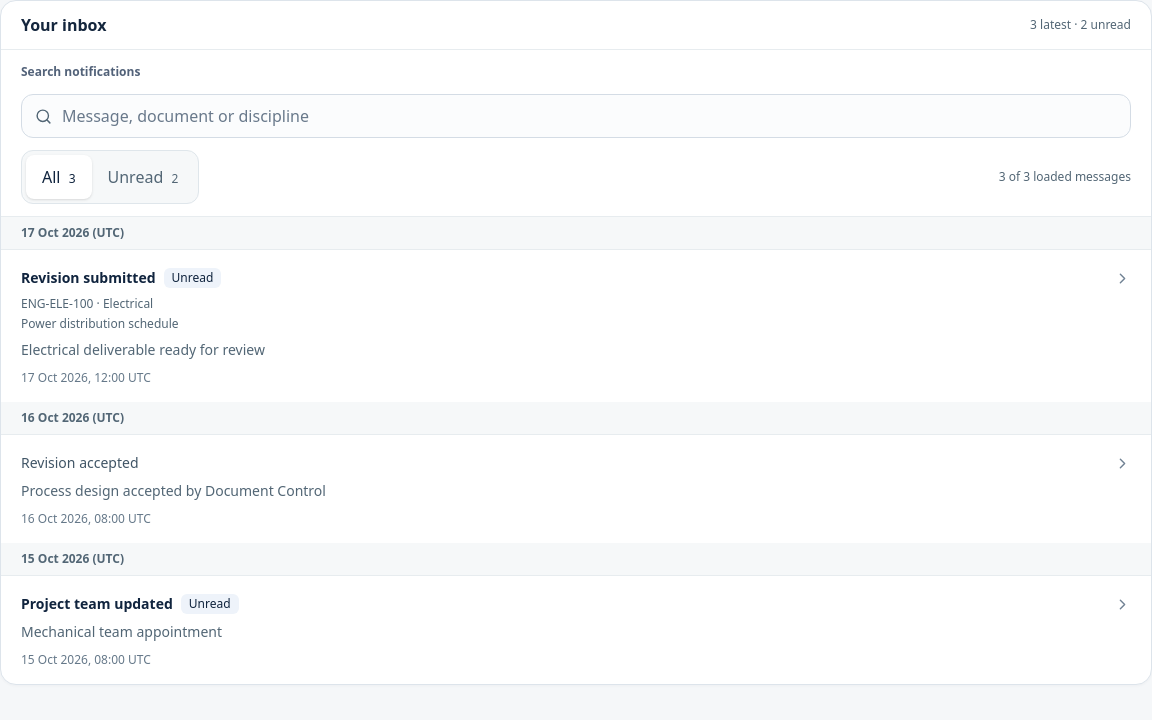
it: clean notification inbox › combines unread state with search without changing the supplied record order
Click the button "Unread 2" at x=143, y=177, box [92, 155, 194, 199]
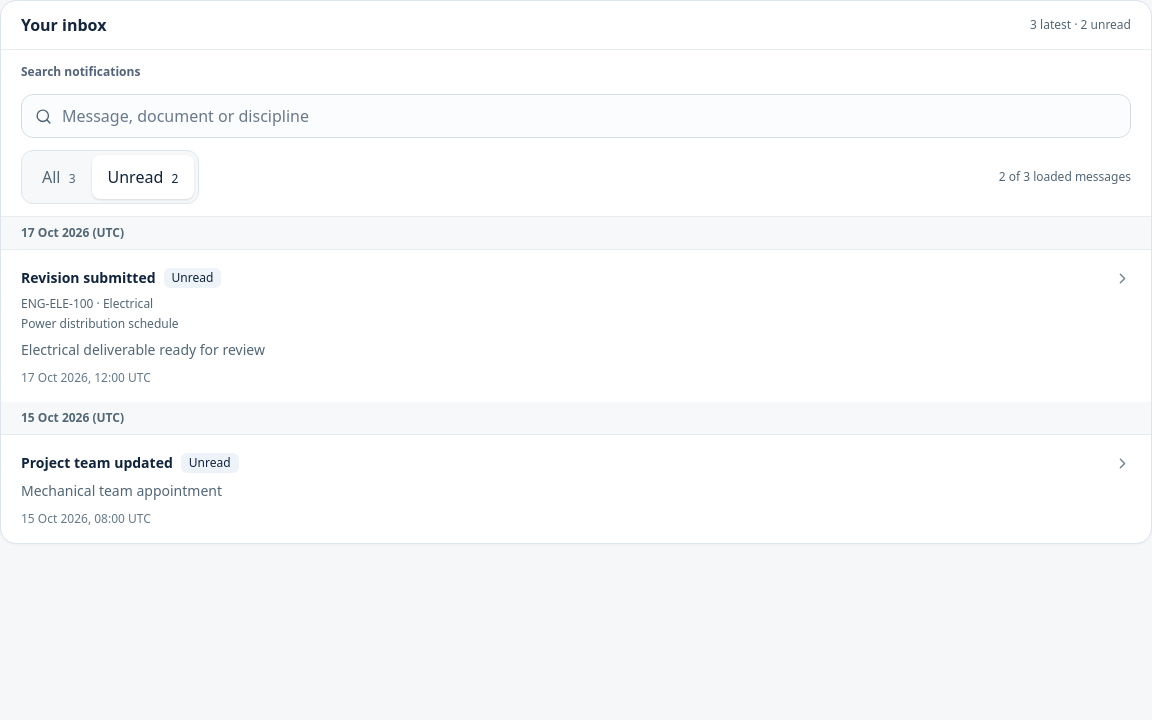
Check: the button "Unread 2" is pressed, box [92, 155, 194, 199]
Type "Process" into the search field at x=576, y=116, box [21, 94, 1131, 138]
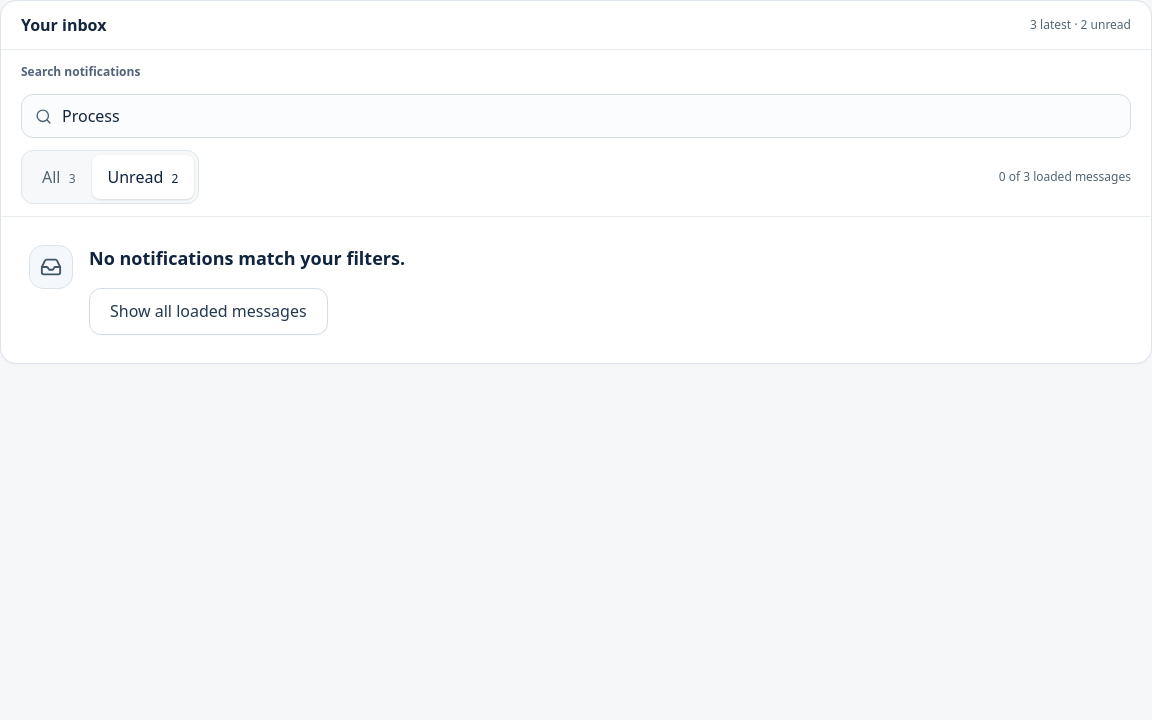
Check: the heading "No notifications match your filters." is shown, box [89, 246, 405, 270]
Click the button "Show all loaded messages" at x=208, y=311, box [89, 288, 328, 335]
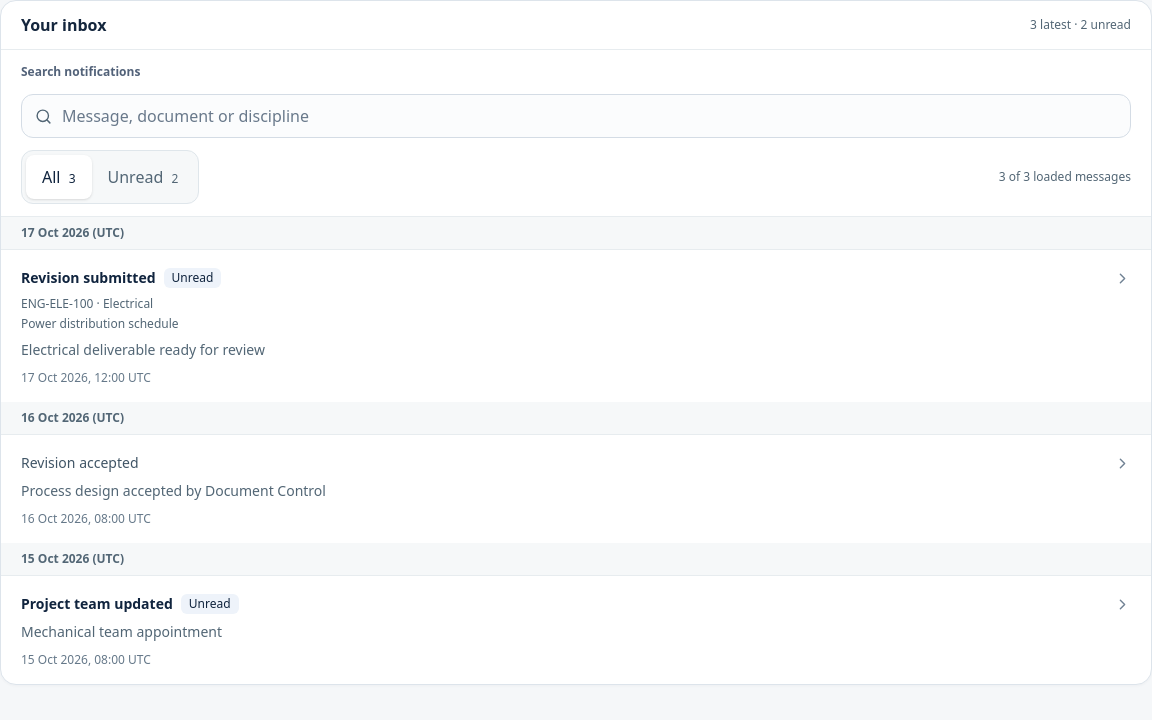
Check: the search field is empty, box [21, 94, 1131, 138]
Check: the message reads "3 of 3 loaded messages", box [999, 168, 1131, 185]
